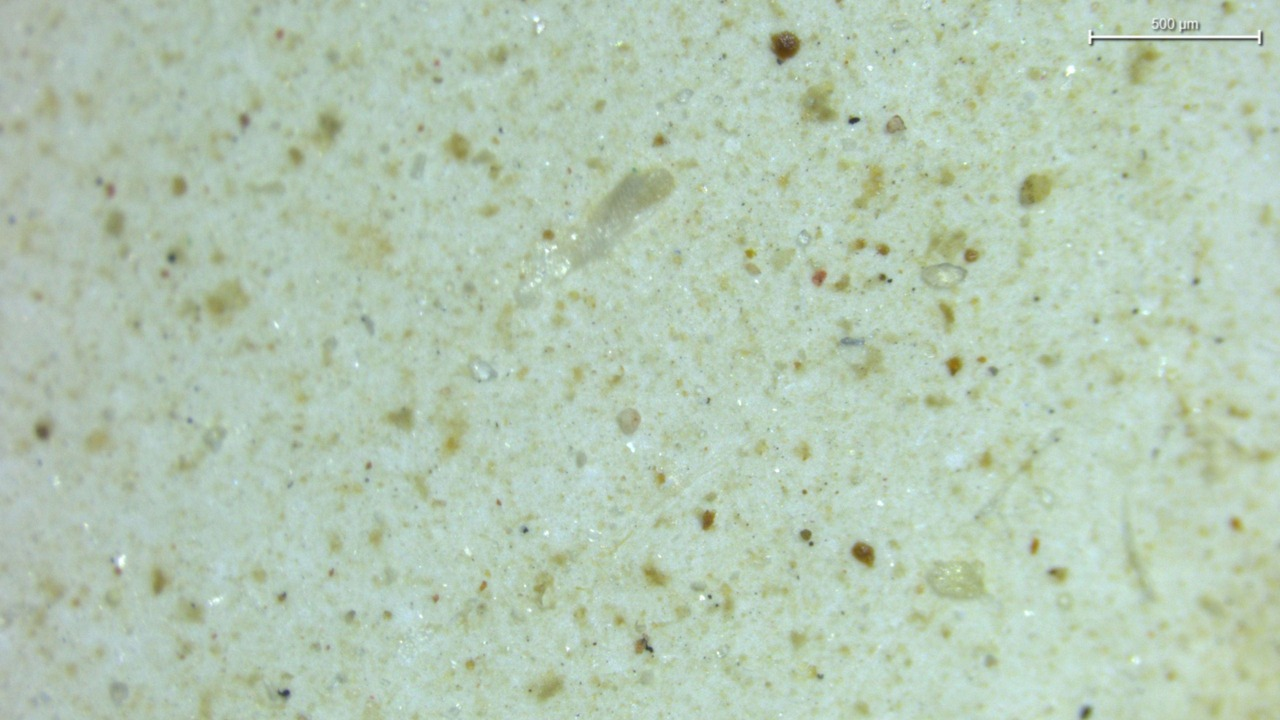microplastic_fragment: (516, 169, 675, 305), (925, 560, 987, 599), (921, 263, 966, 287), (470, 359, 498, 382)
